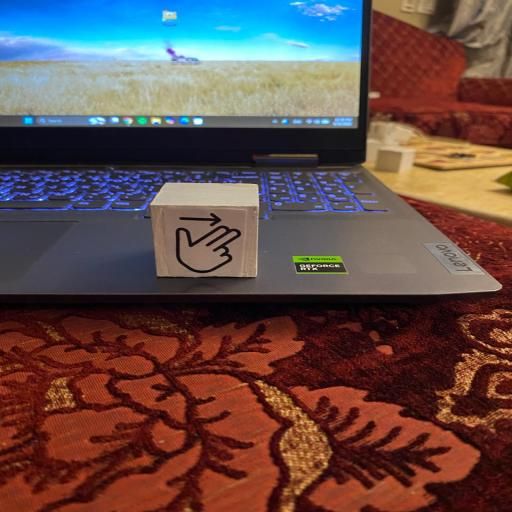RightSwipe: (147, 177, 271, 288)
